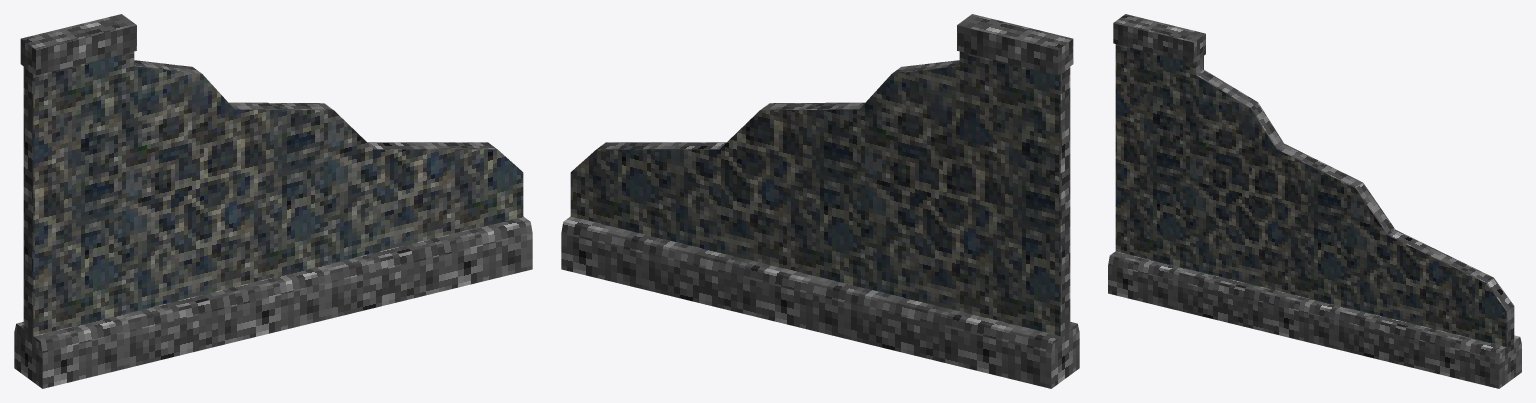
The model's file is brokenstonewall.glb.
3 renders of one model, left to right at view 1: azimuth 30°, elevation 25°; view 2: azimuth 150°, elevation 25°; view 3: azimuth 330°, elevation 25°, orthographic. The views are drawn at different scales.
Parts seen in each view (by area): view 1: stoneWallDamaged; view 2: stoneWallDamaged; view 3: stoneWallDamaged.
Boxes of the visible parts, left/top/right/bottom form: stoneWallDamaged: left=14, top=14, right=532, bottom=388; stoneWallDamaged: left=561, top=14, right=1079, bottom=388; stoneWallDamaged: left=1108, top=14, right=1521, bottom=388.
Bounding box in the file's own units: 1 × 0.6519 × 0.1.
Materials: 2 (2 with a texture image).
